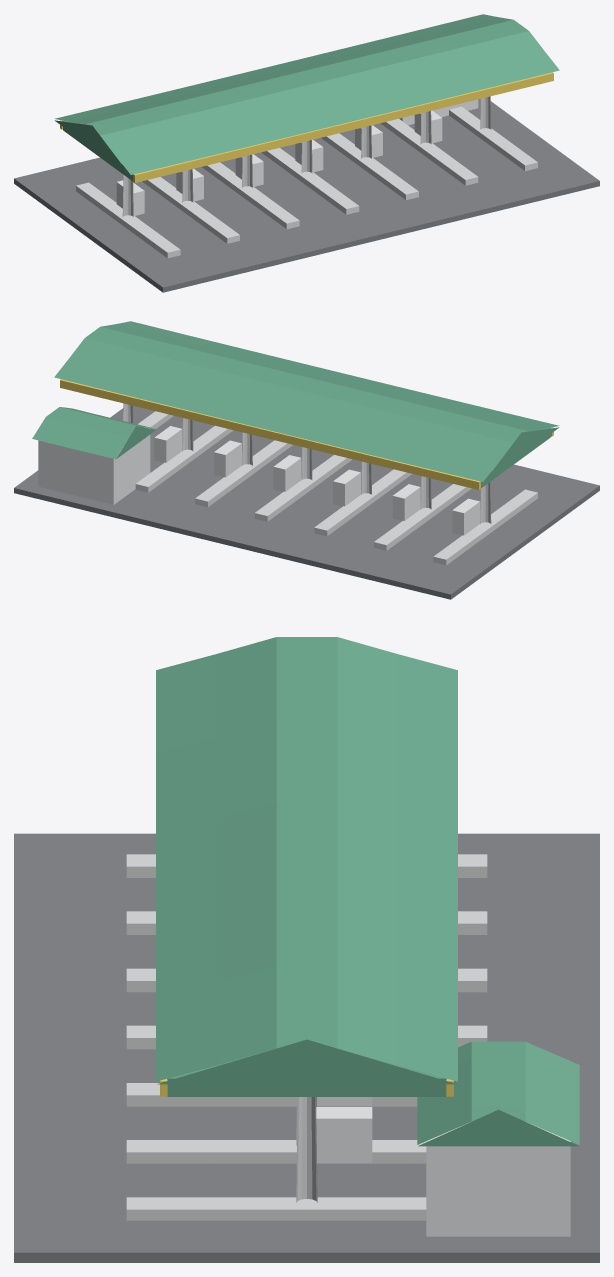
Rendered from lm_94_tram_thu_phi_va_cua_ngo_cao_toc_lien_khuong_prenn_finom.glb.
3 views of the same model, one above another, from view 1: azimuth 30°, elevation 25°; view 2: azimuth 150°, elevation 25°; view 3: azimuth 270°, elevation 25° (orthographic). The views are drawn at different scales.
Parts seen in each view (by area): view 1: lm_94_tram_thu_phi_va_cua_ngo_cao_toc_lien_khuong_prenn_fino; view 2: lm_94_tram_thu_phi_va_cua_ngo_cao_toc_lien_khuong_prenn_fino; view 3: lm_94_tram_thu_phi_va_cua_ngo_cao_toc_lien_khuong_prenn_fino.
Boxes of the visible parts, left/top/right/bottom form: lm_94_tram_thu_phi_va_cua_ngo_cao_toc_lien_khuong_prenn_fino: left=14, top=14, right=599, bottom=292; lm_94_tram_thu_phi_va_cua_ngo_cao_toc_lien_khuong_prenn_fino: left=14, top=321, right=599, bottom=599; lm_94_tram_thu_phi_va_cua_ngo_cao_toc_lien_khuong_prenn_fino: left=14, top=637, right=599, bottom=1262.
Size of the model in its own units: 44 by 10.75 by 26.
